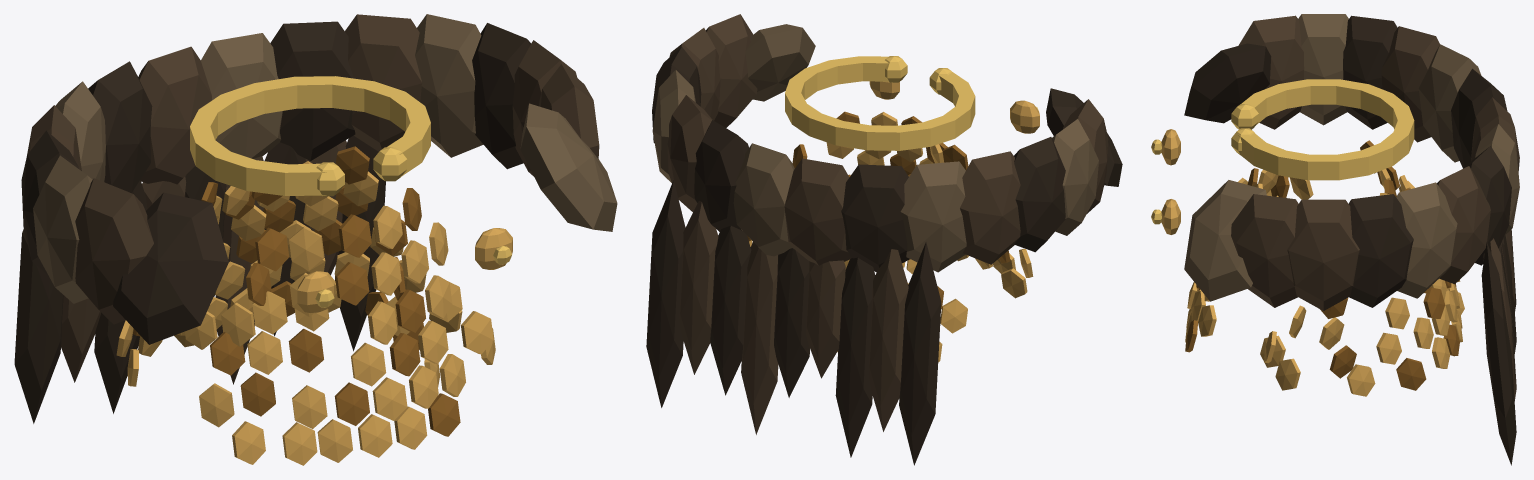
The model's file is barrow_lord_mantle.glb.
3 renders of one model, left to right at view 1: azimuth 30°, elevation 25°; view 2: azimuth 150°, elevation 25°; view 3: azimuth 270°, elevation 25°, orthographic. The views are drawn at different scales.
Parts seen in each view (by area): view 1: barrow_lord_mantle; view 2: barrow_lord_mantle; view 3: barrow_lord_mantle.
Boxes of the visible parts, x1,y1,x2,y2 form: barrow_lord_mantle: (14,14,617,465); barrow_lord_mantle: (646,14,1122,465); barrow_lord_mantle: (1151,14,1519,465).
Size of the model in its own units: 1.19 by 0.8018 by 0.8941.
